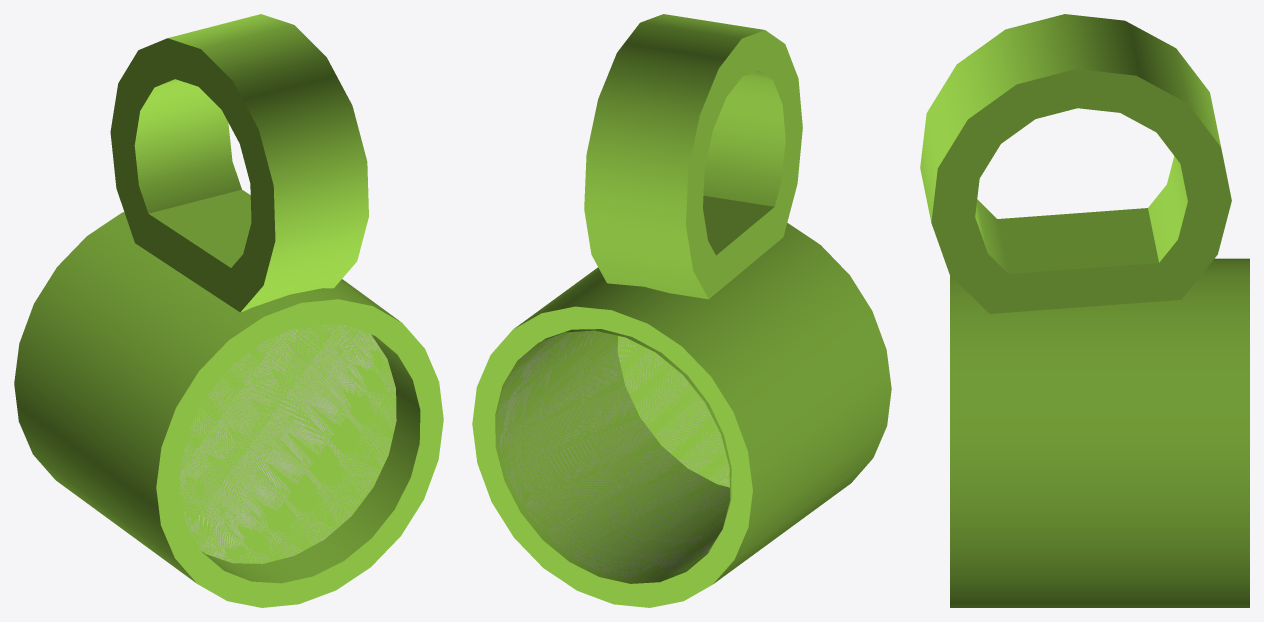
Rendered from model_align.obj.
3 views of the same model, side by side, from view 1: azimuth 30°, elevation 25°; view 2: azimuth 150°, elevation 25°; view 3: azimuth 270°, elevation 25° (orthographic). The views are drawn at different scales.
Parts seen in each view (by area): view 1: mesh1_mesh1-geometry, mesh2_mesh2-geometry; view 2: mesh1_mesh1-geometry, mesh2_mesh2-geometry; view 3: mesh1_mesh1-geometry, mesh2_mesh2-geometry.
Part boxes in pixels (x1,y1,x2,y2): mesh1_mesh1-geometry: (14,212,443,607); mesh2_mesh2-geometry: (110,14,368,312); mesh1_mesh1-geometry: (472,223,891,607); mesh2_mesh2-geometry: (584,14,802,299); mesh1_mesh1-geometry: (950,258,1249,607); mesh2_mesh2-geometry: (920,14,1231,313).
Size of the model in its own units: 0.0734 by 0.1283 by 0.0691.
